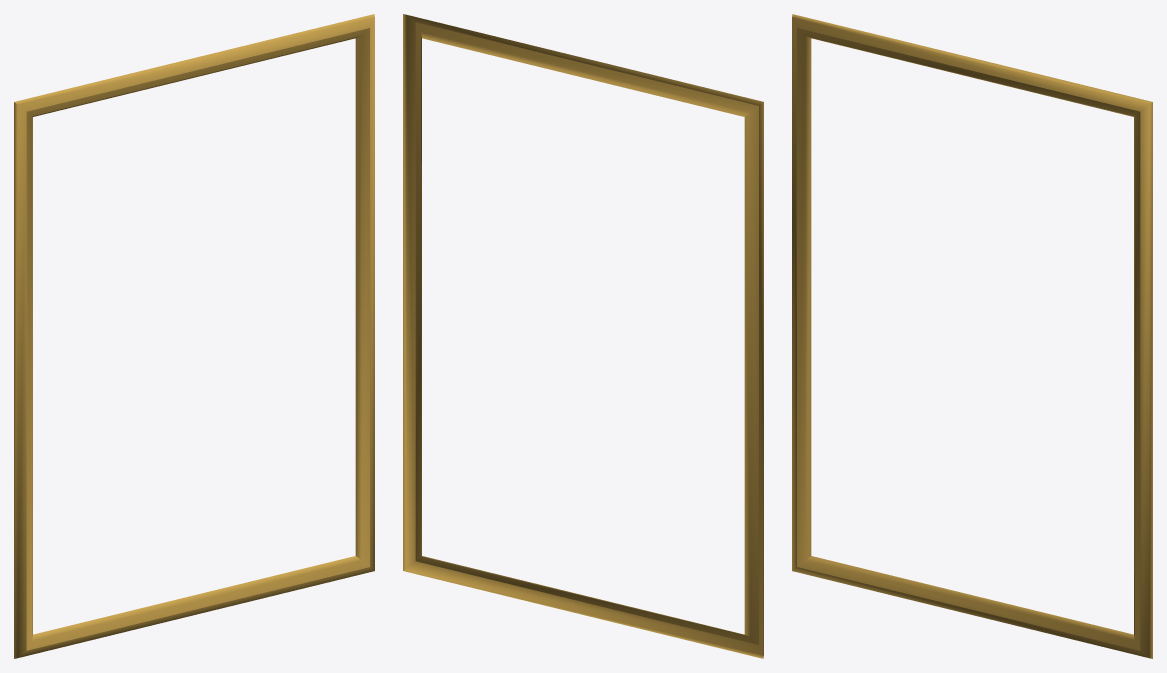
File: moldura-parede-medio.glb
3 views of the same model, side by side, from view 1: azimuth 30°, elevation 25°; view 2: azimuth 150°, elevation 25°; view 3: azimuth 330°, elevation 25° (orthographic).
Bounding box in the file's own units: 1.05 × 1.55 × 0.02.
